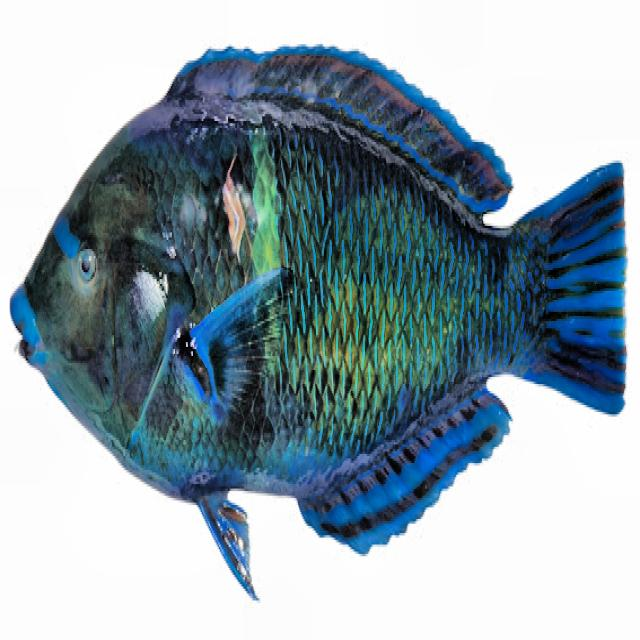fish: (9, 43, 626, 603)
